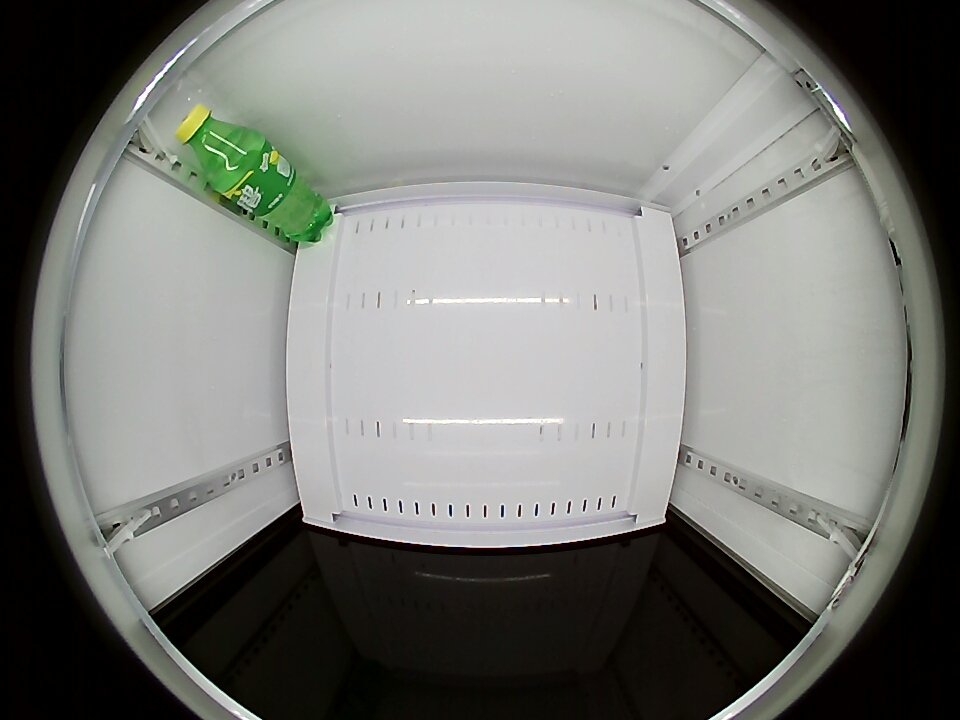xuebi-b: (175, 103, 257, 183)
